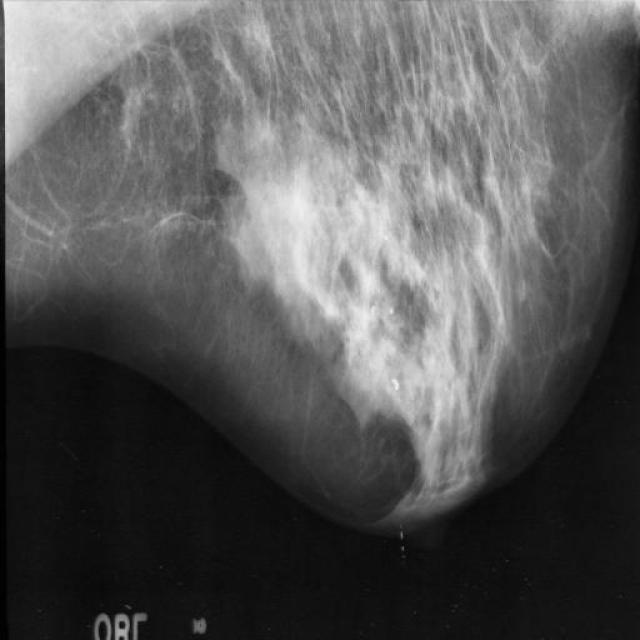cancer: (335, 288, 377, 338)
